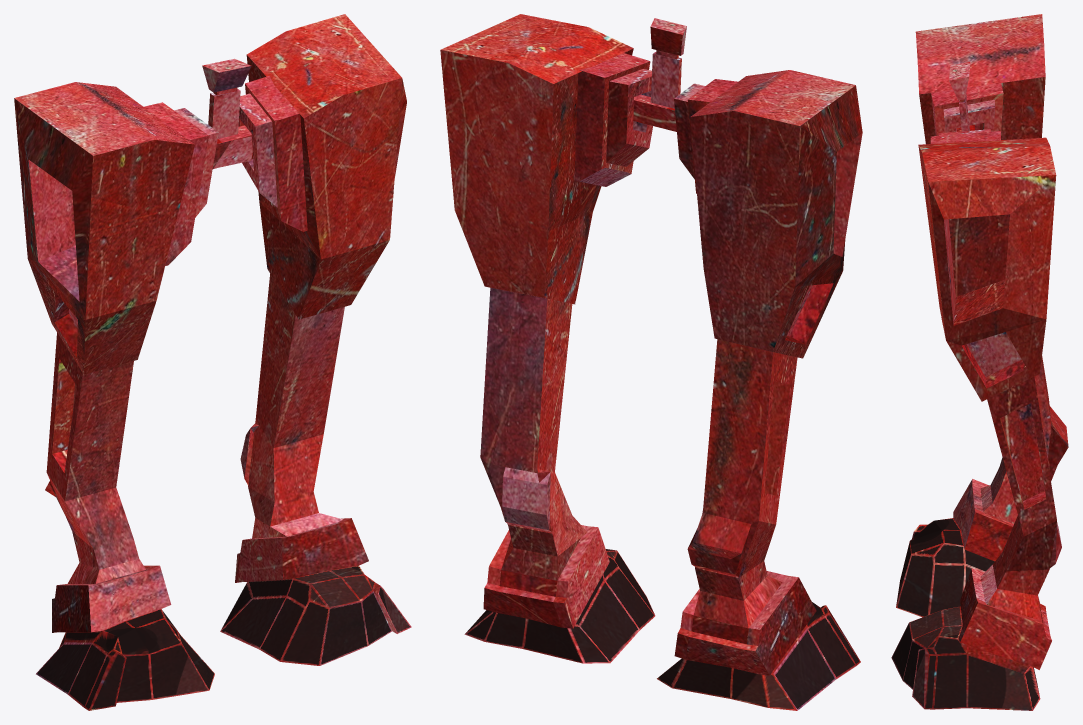
File: bullLegsNew.fbx
3 views of the same model, side by side, from view 1: azimuth 30°, elevation 25°; view 2: azimuth 150°, elevation 25°; view 3: azimuth 270°, elevation 25° (orthographic). The views are drawn at different scales.
Visible parts, largest first — view 1: bulllegs; view 2: bulllegs; view 3: bulllegs.
Part boxes in pixels (<box>): bulllegs: <box>14,14,411,710</box>; bulllegs: <box>440,14,862,710</box>; bulllegs: <box>891,14,1068,710</box>.
Bounding box in the file's own units: 264 × 419 × 119.
